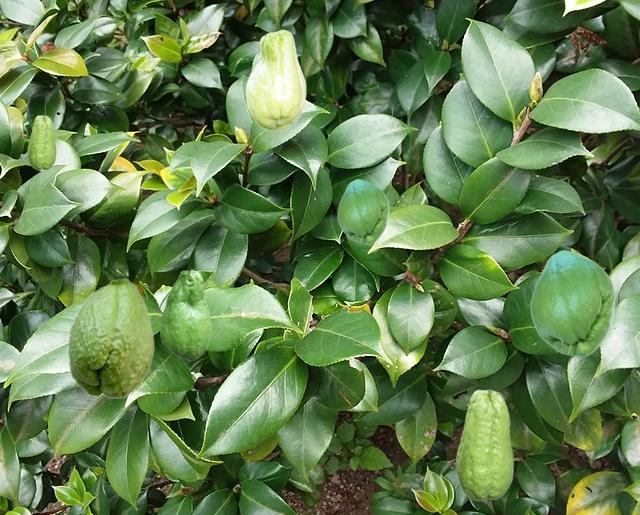sayote: (67, 277, 154, 398), (530, 250, 614, 356), (455, 389, 513, 500), (245, 29, 305, 130), (160, 269, 210, 359), (337, 179, 388, 243), (27, 115, 55, 169)
